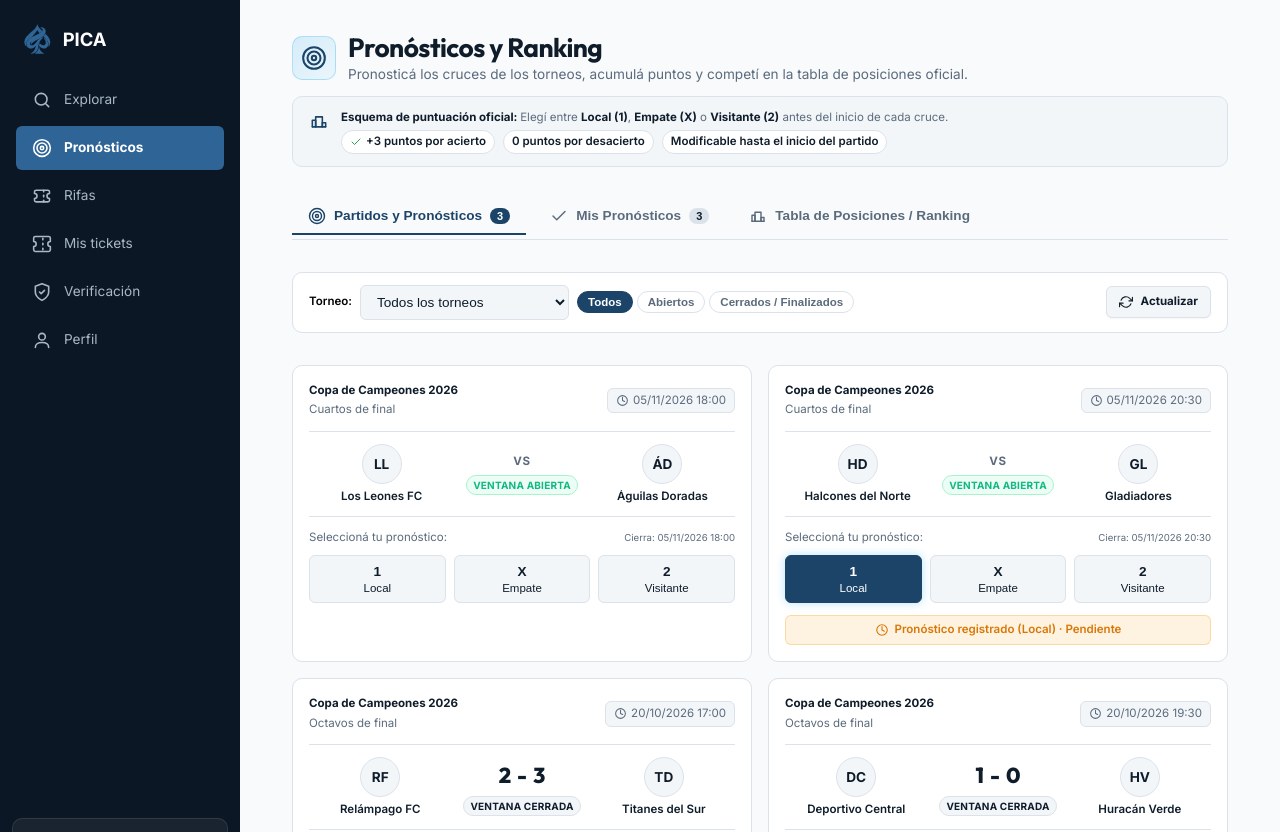
HU-306 / T306-2: Pronósticos y ranking › cargar un pronóstico válido antes del cierre de la ventana queda registrado
The image size is (1280, 832).
Expected: the element with test id "partido-card-101" is shown, [292,365,752,662]
// El usuario selecciona "1" (Local)
Click the button with aria-label "pronosticar victoria local".
click(377, 579)  # box [309,555,446,603]
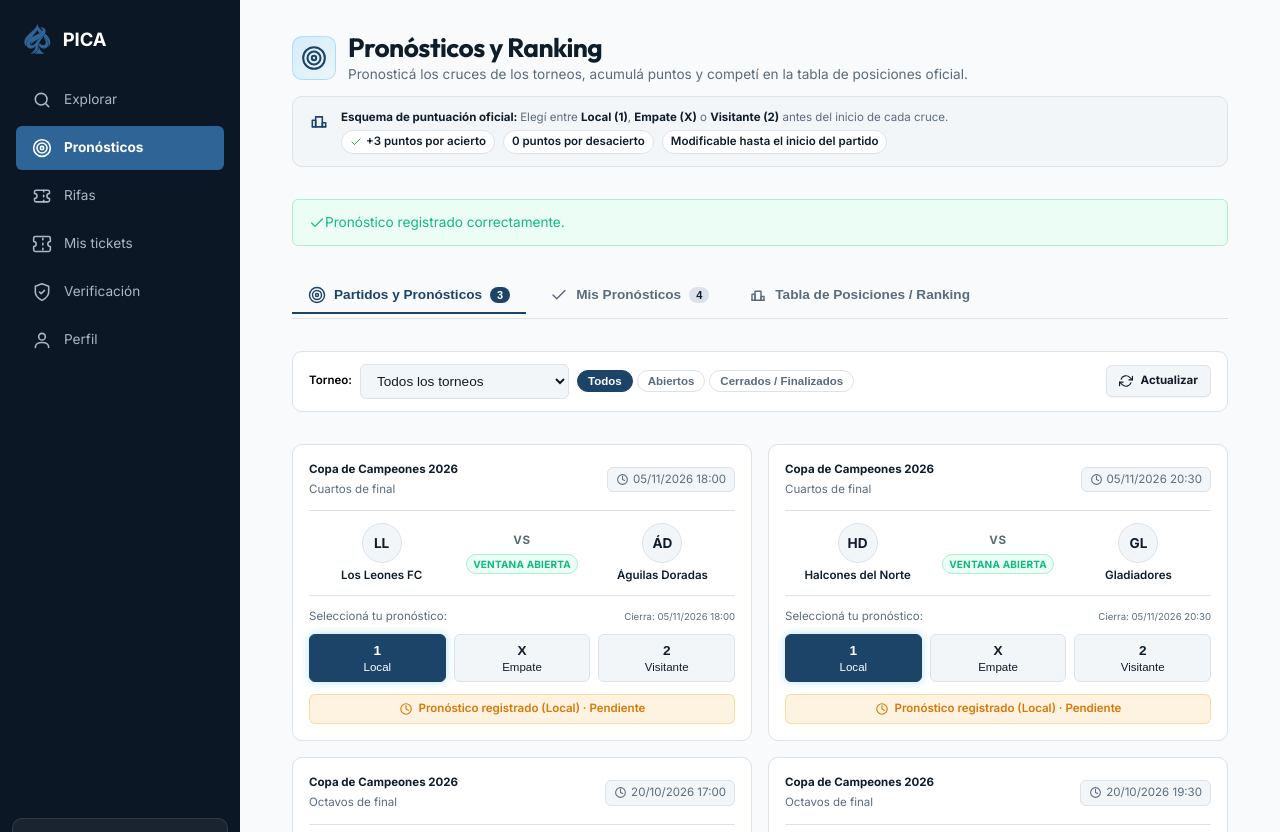
Expected: the text "Pronóstico registrado (Local) · Pendiente" below "Los Leones FC" is shown, [419,700,645,718]
